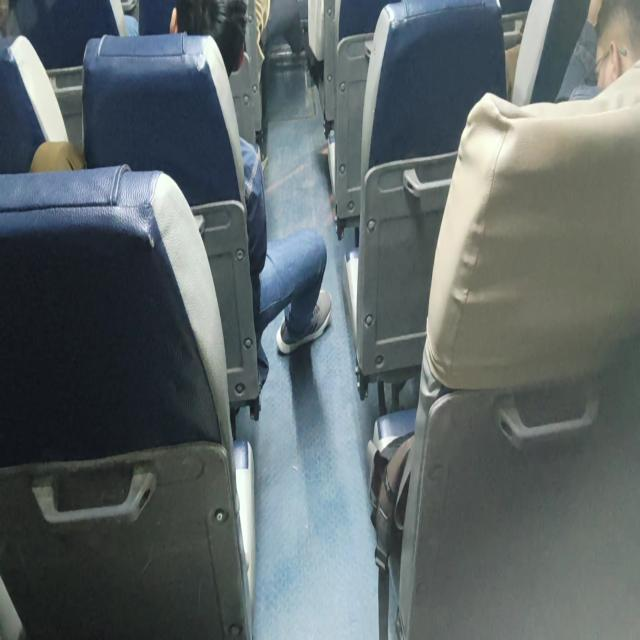person: (371, 1, 639, 637), (169, 1, 332, 390), (555, 0, 639, 103)
